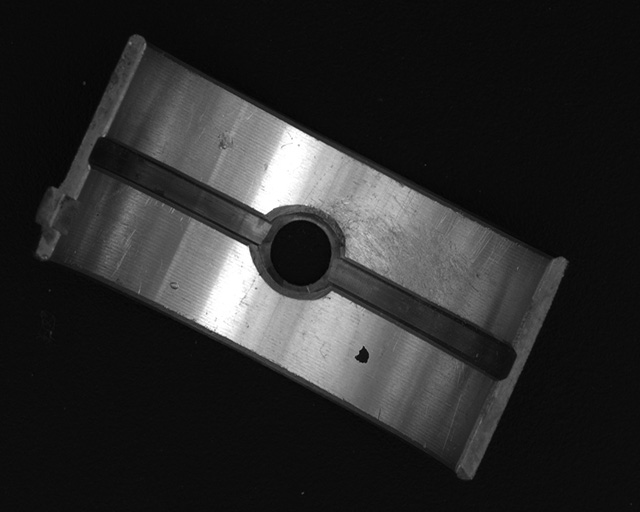blot: (354, 344, 370, 365)
bruise: (217, 131, 235, 152), (168, 280, 180, 291)
gap: (331, 259, 515, 379), (89, 137, 271, 243)
hole: (259, 204, 342, 299)
nick: (106, 227, 136, 281)
scratch: (309, 157, 483, 311)
